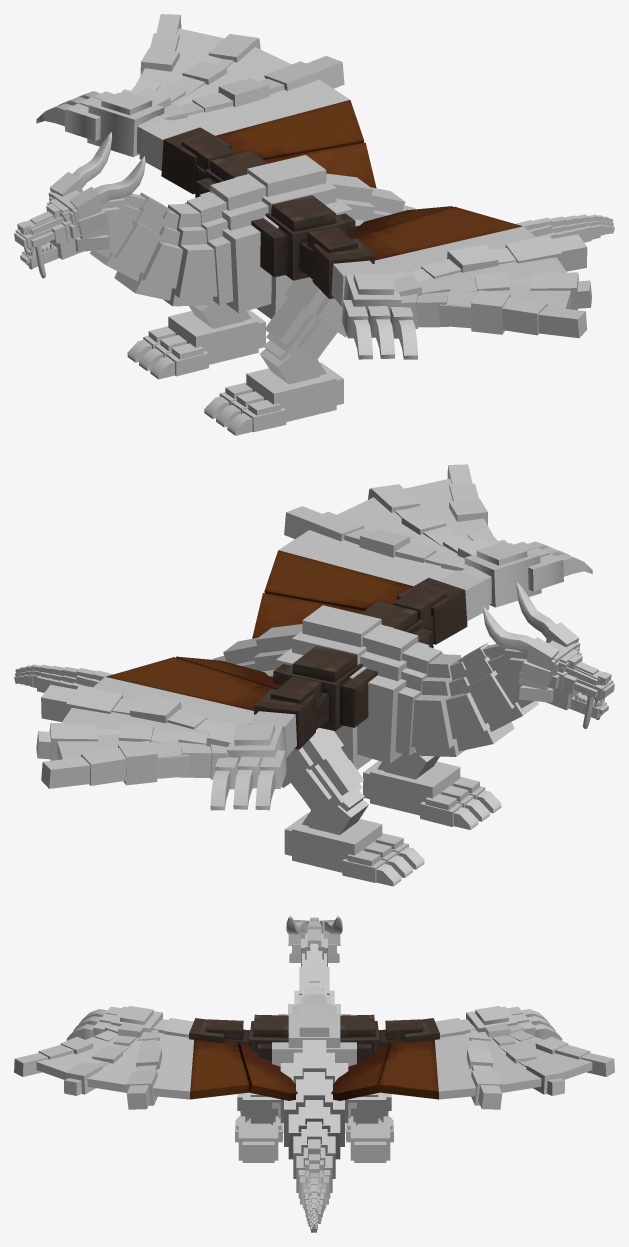
Rendered from saber_tooth_wyvern.obj.
3 views of the same model, one above another, from view 1: azimuth 30°, elevation 25°; view 2: azimuth 150°, elevation 25°; view 3: azimuth 270°, elevation 25° (orthographic). The views are drawn at different scales.
Parts seen in each view (by area): view 1: Saber Tooth Wyvern.017, Saber Tooth Wyvern.005, Saber Tooth Wyvern.009, Saber Tooth Wyvern.002, Saber Tooth Wyvern, Saber Tooth Wyvern.011, Saber Tooth Wyvern.012, Saber Tooth Wyvern.007, Saber Tooth Wyvern.008, Saber Tooth Wyvern.010, Saber Tooth Wyvern.001, Saber Tooth Wyvern.013 (+1 smaller); view 2: Saber Tooth Wyvern.017, Saber Tooth Wyvern.005, Saber Tooth Wyvern.009, Saber Tooth Wyvern.002, Saber Tooth Wyvern, Saber Tooth Wyvern.011, Saber Tooth Wyvern.012, Saber Tooth Wyvern.007, Saber Tooth Wyvern.008, Saber Tooth Wyvern.010, Saber Tooth Wyvern.001, Saber Tooth Wyvern.013 (+1 smaller); view 3: Saber Tooth Wyvern.017, Saber Tooth Wyvern.005, Saber Tooth Wyvern.010, Saber Tooth Wyvern.002, Saber Tooth Wyvern.009, Saber Tooth Wyvern.007, Saber Tooth Wyvern.003, Saber Tooth Wyvern, Saber Tooth Wyvern.012, Saber Tooth Wyvern.001, Saber Tooth Wyvern.016, Saber Tooth Wyvern.008 (+3 smaller).
Part boxes in pixels (left/top/right/bottom): Saber Tooth Wyvern.017: left=36, top=14, right=591, bottom=359; Saber Tooth Wyvern.005: left=161, top=100, right=522, bottom=298; Saber Tooth Wyvern.009: left=127, top=310, right=343, bottom=435; Saber Tooth Wyvern.002: left=185, top=155, right=352, bottom=319; Saber Tooth Wyvern: left=14, top=132, right=145, bottom=278; Saber Tooth Wyvern.011: left=163, top=192, right=233, bottom=306; Saber Tooth Wyvern.012: left=90, top=192, right=182, bottom=300; Saber Tooth Wyvern.007: left=222, top=277, right=346, bottom=369; Saber Tooth Wyvern.008: left=189, top=301, right=326, bottom=384; Saber Tooth Wyvern.010: left=326, top=173, right=415, bottom=226; Saber Tooth Wyvern.001: left=80, top=192, right=146, bottom=257; Saber Tooth Wyvern.013: left=20, top=235, right=109, bottom=268; Saber Tooth Wyvern.017: left=36, top=464, right=592, bottom=810; Saber Tooth Wyvern.005: left=105, top=550, right=467, bottom=749; Saber Tooth Wyvern.009: left=284, top=761, right=501, bottom=886; Saber Tooth Wyvern.002: left=276, top=605, right=443, bottom=769; Saber Tooth Wyvern: left=483, top=582, right=614, bottom=728; Saber Tooth Wyvern.011: left=395, top=643, right=465, bottom=756; Saber Tooth Wyvern.012: left=445, top=643, right=538, bottom=751; Saber Tooth Wyvern.007: left=282, top=728, right=406, bottom=819; Saber Tooth Wyvern.008: left=302, top=751, right=439, bottom=834; Saber Tooth Wyvern.010: left=212, top=624, right=302, bottom=676; Saber Tooth Wyvern.001: left=483, top=642, right=548, bottom=708; Saber Tooth Wyvern.013: left=519, top=685, right=608, bottom=719; Saber Tooth Wyvern.017: left=14, top=1006, right=614, bottom=1109; Saber Tooth Wyvern.005: left=189, top=1014, right=439, bottom=1100; Saber Tooth Wyvern.010: left=280, top=1040, right=348, bottom=1159; Saber Tooth Wyvern.002: left=272, top=997, right=356, bottom=1118; Saber Tooth Wyvern.009: left=235, top=1116, right=393, bottom=1162; Saber Tooth Wyvern.007: left=237, top=1092, right=391, bottom=1124; Saber Tooth Wyvern.003: left=293, top=1121, right=335, bottom=1192; Saber Tooth Wyvern: left=286, top=915, right=342, bottom=954; Saber Tooth Wyvern.012: left=294, top=961, right=334, bottom=1003; Saber Tooth Wyvern.001: left=301, top=929, right=327, bottom=966; Saber Tooth Wyvern.016: left=298, top=1154, right=330, bottom=1204; Saber Tooth Wyvern.008: left=247, top=1118, right=381, bottom=1137.
Bounding box in the file's own units: 36.33 × 15.55 × 44.3.
